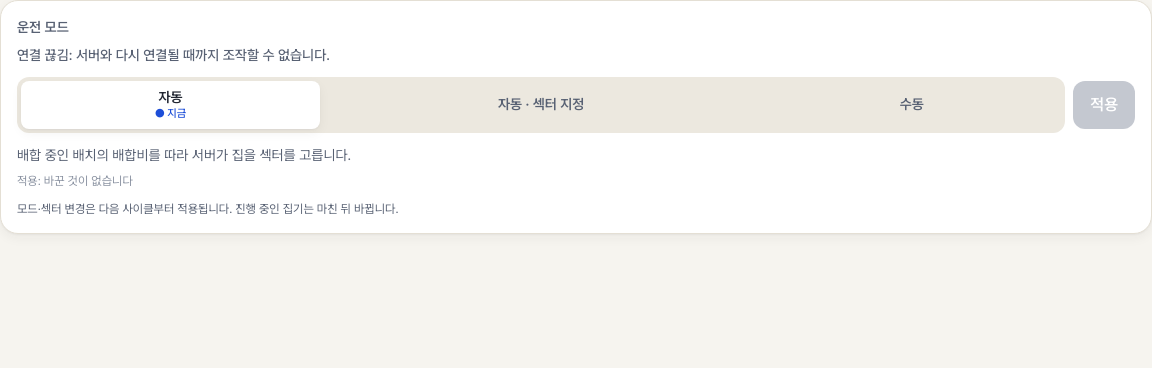
it: RobotModeControl: 세 칸 하나와 확인 단계 › 연결이 끊기면 명령 버튼을 모두 막고 이유를 보여 준다
Expected: the text "연결 끊김: 서버와 다시 연결될 때까지 조작할 수 없습니다." is shown, [17,47,330,63]
Click the radio button labelled "수동".
click(912, 105)  # box [762,81,1061,129]
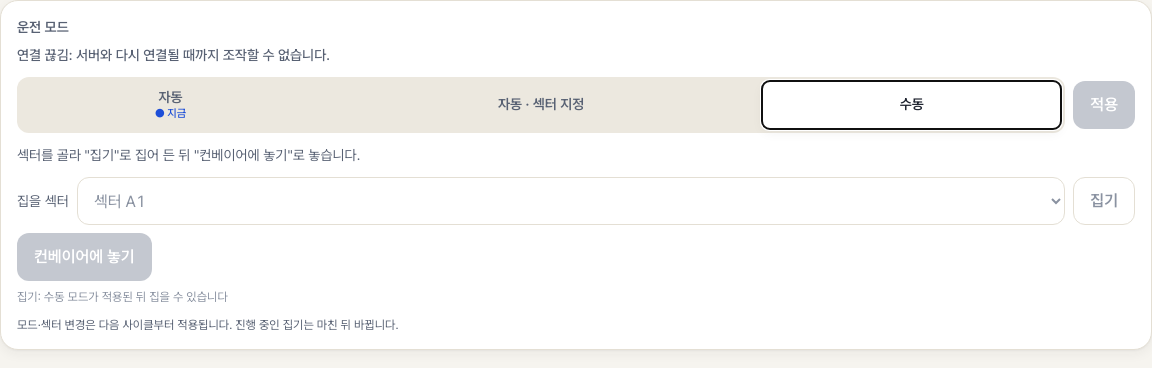
Expected: the button "적용" is disabled, [1073,81,1135,129]
Expected: the button "집기" is disabled, [1073,177,1135,225]
Expected: the button "컨베이어에 놓기" is disabled, [17,233,152,281]
